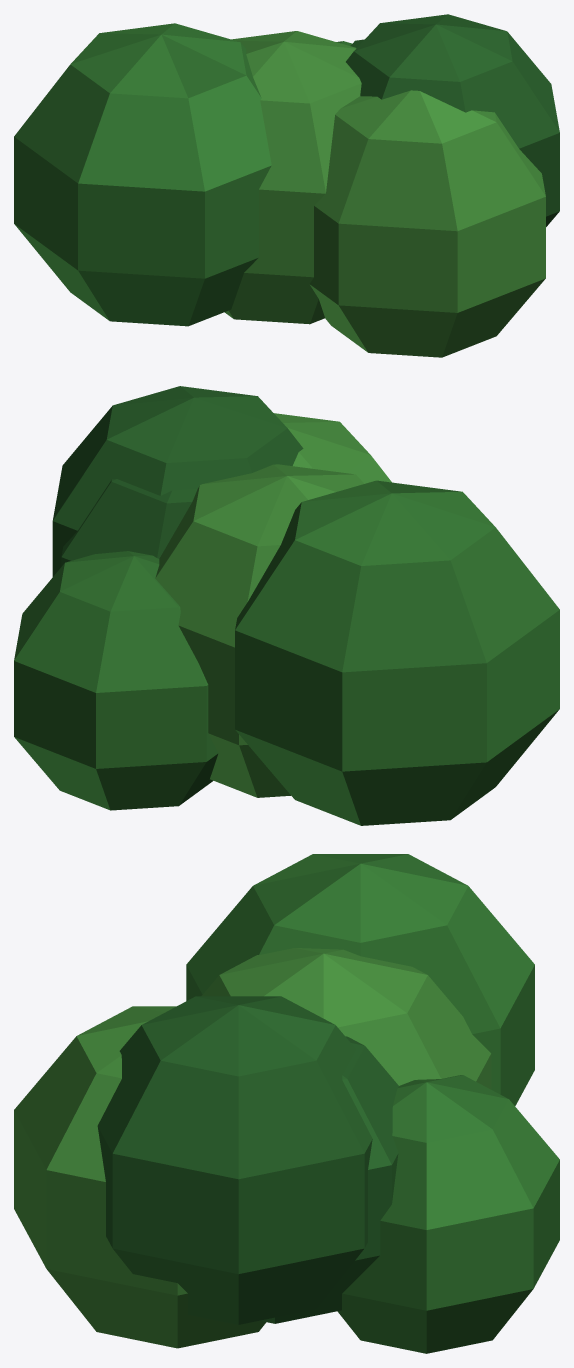
The model's file is p_bush.glb.
The picture shows the model from 3 angles, top to bottom: view 1: azimuth 30°, elevation 25°; view 2: azimuth 150°, elevation 25°; view 3: azimuth 270°, elevation 25°; orthographic projection. The views are drawn at different scales.
Visible parts, largest first — view 1: p_bush; view 2: p_bush; view 3: p_bush.
Boxes of the visible parts, box(x1,y1,x2,y2) form: p_bush: box(14, 14, 559, 357); p_bush: box(14, 386, 559, 825); p_bush: box(14, 854, 559, 1353).
Bounding box in the file's own units: 0.7299 × 0.4635 × 0.6274.
